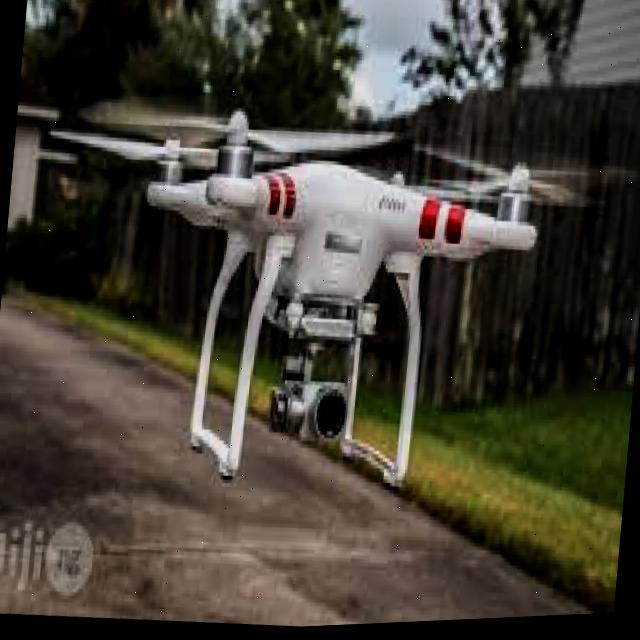drone: (28, 38, 630, 532)
